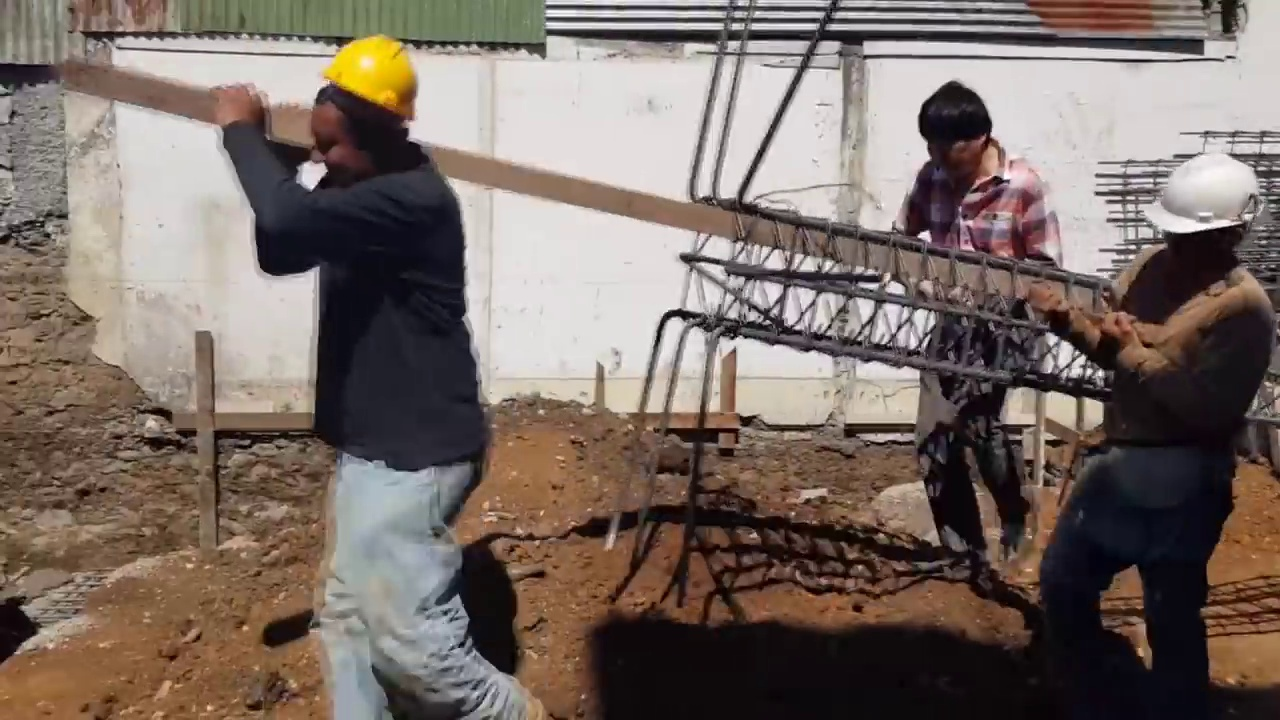helmet: (314, 23, 428, 114), (1157, 148, 1267, 232)
helmet-off: (921, 76, 1004, 181)
helmet-on: (1149, 148, 1266, 286), (312, 30, 423, 172)
person: (271, 40, 527, 720), (1050, 131, 1274, 715), (903, 82, 1085, 614)
